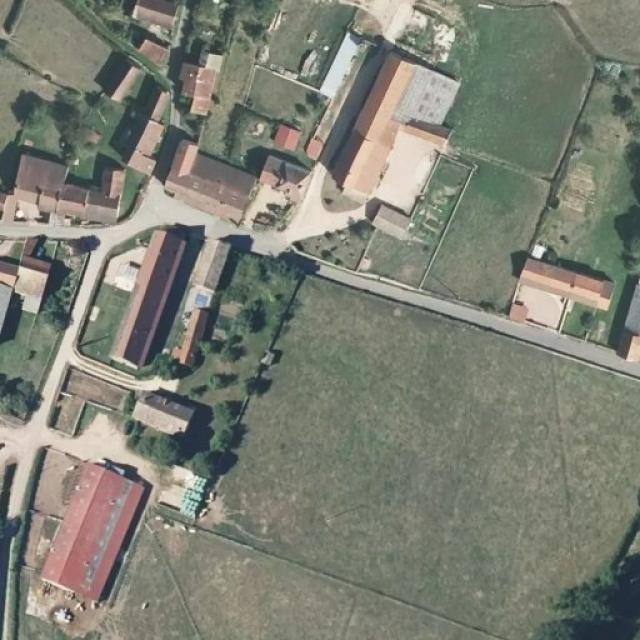ferme: (336, 20, 466, 214), (44, 450, 148, 600), (117, 207, 192, 354), (193, 219, 239, 284), (138, 382, 200, 428)
maison: (5, 148, 121, 223), (510, 243, 612, 327), (168, 123, 259, 210), (0, 234, 51, 310), (126, 86, 168, 171), (176, 52, 219, 119), (268, 127, 320, 174), (130, 0, 184, 29), (140, 28, 173, 72)
piscine: (190, 280, 211, 312)
